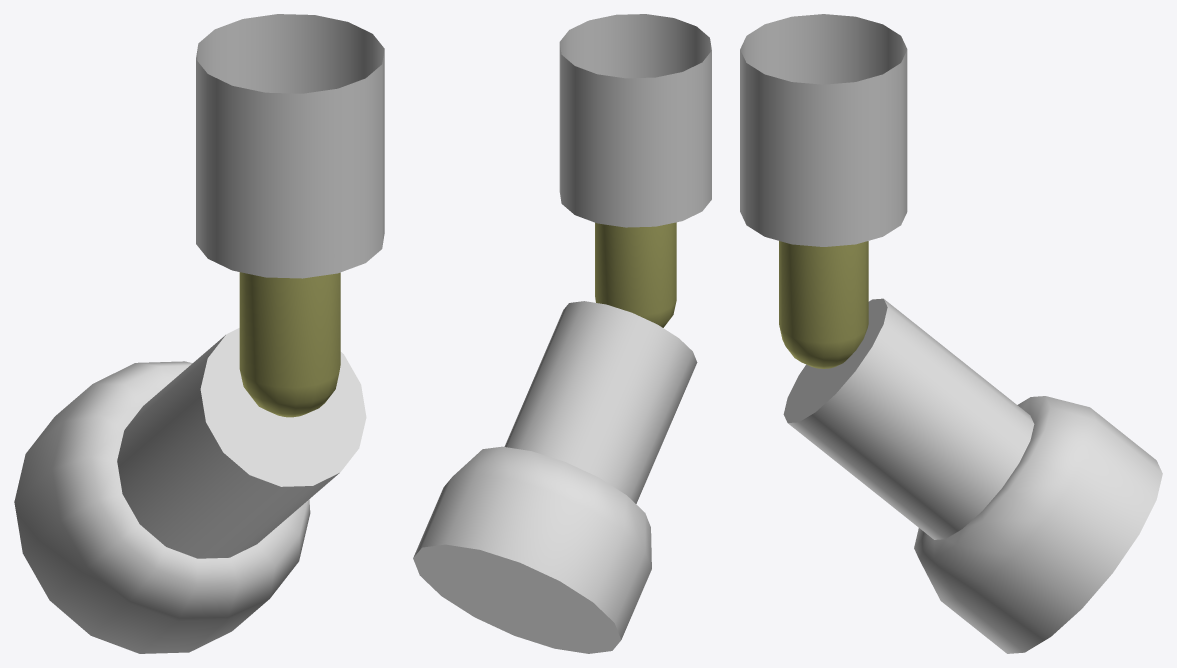
Rendered from Light.fbx.
3 views of the same model, side by side, from view 1: azimuth 30°, elevation 25°; view 2: azimuth 150°, elevation 25°; view 3: azimuth 270°, elevation 25° (orthographic). The views are drawn at different scales.
Parts seen in each view (by area): view 1: Light_Head, Light_Body; view 2: Light_Head, Light_Body; view 3: Light_Head, Light_Body.
Part boxes in pixels (x1,y1,x2,y2): Light_Head: (14, 328, 366, 653); Light_Body: (196, 14, 384, 417); Light_Head: (413, 301, 697, 653); Light_Body: (559, 14, 711, 327); Light_Head: (783, 298, 1162, 653); Light_Body: (740, 14, 907, 368).
Bounding box in the file's own units: 4.26 × 11.33 × 7.34.
